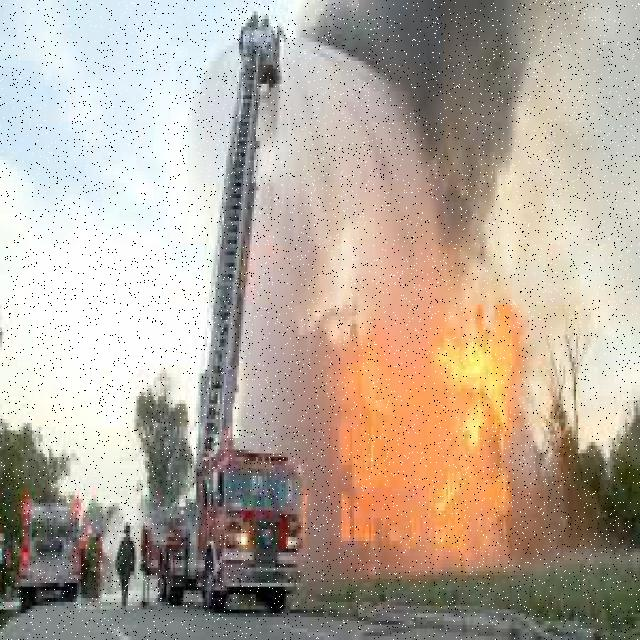fire: (418, 308, 528, 572)
